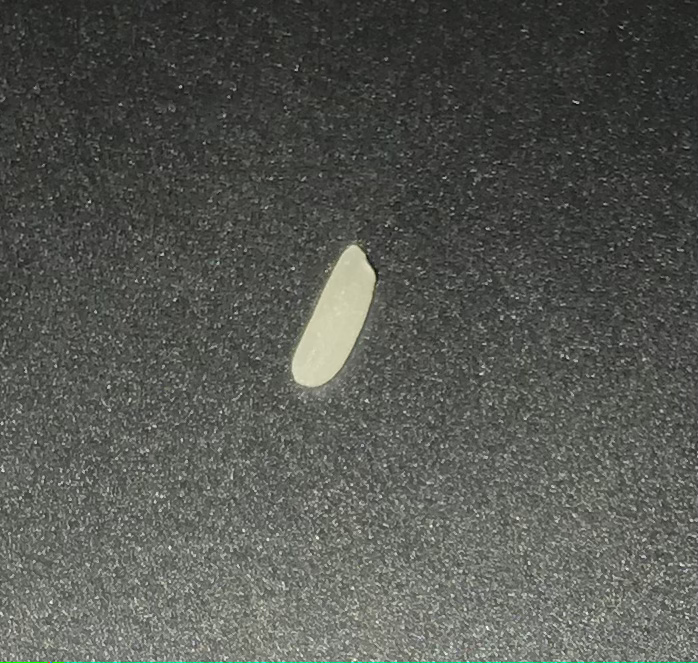Gao Tam Thom: (283, 238, 395, 404)
